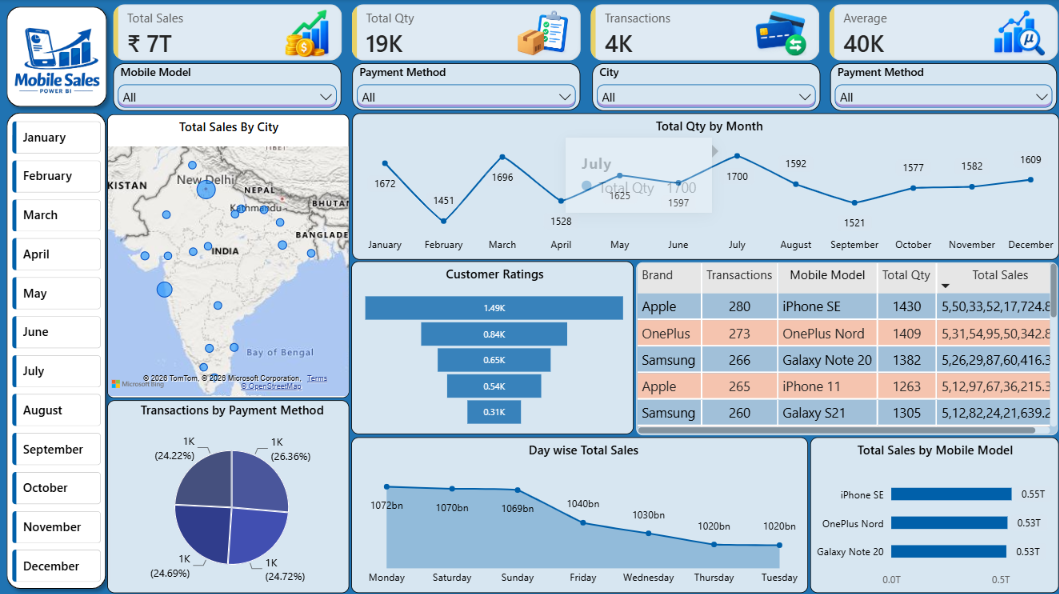

What the dashboard file says about the page in this screenshot:
{"tool":"powerbi","page":{"name":"Page 1","canvas":[1280,720],"ordinal":0},"visuals":[{"type":"shape","box":[0,0,138.7,127.9],"z":0},{"type":"shape","box":[0,115.6,137.5,604.4],"z":1000},{"type":"advancedSlicerVisual","fields":{"Values":["Mobile Sales.Date.Variation.Date Hierarchy.Month"]},"box":[15.9,132.7,106.8,572.8],"z":2000},{"type":"cardVisual","fields":{"Data":["Mobile Sales.Total Sales","Mobile Sales.Total Qty","Mobile Sales.Total Transactions","Mobile Sales.Average"]},"box":[137.5,6,1141.3,68.8],"z":3000},{"type":"map","title":"Total Sales By City","fields":{"Category":["Mobile Sales.City"],"Size":["Mobile Sales.Total Sales"]},"box":[130.3,138.7,292,342],"z":4000},{"type":"lineChart","fields":{"Category":["Mobile Sales.Date.Variation.Date Hierarchy.Month","Mobile Sales.Date.Variation.Date Hierarchy.Day"],"Y":["Mobile Sales.Total Qty"]},"box":[425.6,138,852.7,177],"z":5000},{"type":"barChart","fields":{"Category":["Mobile Sales.Mobile Model"],"Y":["Mobile Sales.Total Sales"]},"box":[978.4,528.4,300,188.2],"z":6000},{"type":"pieChart","fields":{"Category":["Mobile Sales.Payment Method"],"Y":["Mobile Sales.Transactions"]},"box":[130,484,292,232.8],"z":7000},{"type":"funnel","title":"Customer Ratings","fields":{"Category":["Mobile Sales.Customer Ratings"],"Y":["CountNonNull(Mobile Sales.Customer Ratings)"]},"box":[424.2,316,341,209],"z":8000},{"type":"areaChart","title":"Day wise Total Sales","fields":{"Category":["Mobile Sales.Day Name"],"Y":["Mobile Sales.Total Sales"]},"box":[424.2,528,551.1,188],"z":9000},{"type":"tableEx","fields":{"Values":["Mobile Sales.Brand","Mobile Sales.Transactions","Mobile Sales.Mobile Model","Mobile Sales.Total Qty","Mobile Sales.Total Sales"]},"box":[768.5,317.3,509.1,208.7],"z":10000},{"type":"slicer","fields":{"Values":["Mobile Sales.Mobile Model"]},"box":[138.7,77,275.1,57.9],"z":11000},{"type":"slicer","fields":{"Values":["Mobile Sales.Payment Method"]},"box":[1003.8,77,273.9,57.9],"z":12000},{"type":"slicer","fields":{"Values":["Mobile Sales.Payment Method"]},"box":[425.9,77,275.1,56.7],"z":13000},{"type":"slicer","fields":{"Values":["Mobile Sales.City"]},"box":[715.4,77,275.1,57.9],"z":14000},{"type":"image","box":[0,10.9,133.9,105],"z":15000}]}

Visuals, with their boxes in screenshot pixels (x1, y1, x2, y2), scaled from the page's 1280x720 canvas onto the 1059x594 screenshot:
shape: <region>0, 0, 115, 106</region>
shape: <region>0, 95, 114, 593</region>
advancedSlicerVisual - Mobile Sales.Date.Variation.Date Hierarchy.Month: <region>13, 109, 102, 582</region>
cardVisual - Mobile Sales.Total Sales x Mobile Sales.Total Qty: <region>114, 5, 1058, 62</region>
"Total Sales By City" map: <region>108, 114, 349, 397</region>
lineChart - Mobile Sales.Date.Variation.Date Hierarchy.Month x Mobile Sales.Date.Variation.Date Hierarchy.Day: <region>352, 114, 1058, 260</region>
barChart - Mobile Sales.Mobile Model x Mobile Sales.Total Sales: <region>809, 436, 1058, 591</region>
pieChart - Mobile Sales.Payment Method x Mobile Sales.Transactions: <region>108, 399, 349, 591</region>
"Customer Ratings" funnel: <region>351, 261, 633, 433</region>
"Day wise Total Sales" areaChart: <region>351, 436, 807, 591</region>
tableEx - Mobile Sales.Brand x Mobile Sales.Transactions: <region>636, 262, 1057, 434</region>
slicer - Mobile Sales.Mobile Model: <region>115, 64, 342, 111</region>
slicer - Mobile Sales.Payment Method: <region>830, 64, 1057, 111</region>
slicer - Mobile Sales.Payment Method: <region>352, 64, 580, 110</region>
slicer - Mobile Sales.City: <region>592, 64, 819, 111</region>
image: <region>0, 9, 111, 96</region>
